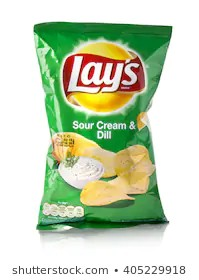lays-med: (32, 21, 173, 232)
